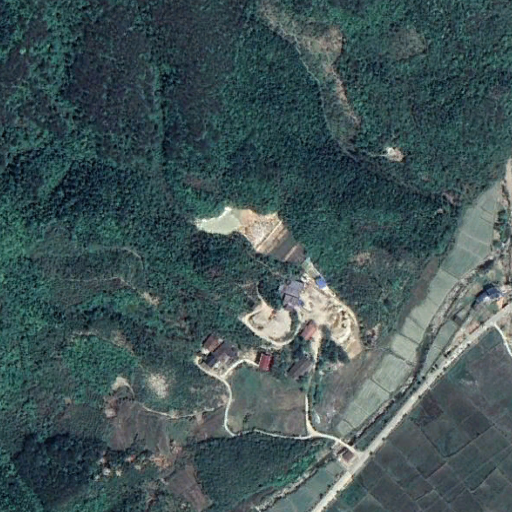tp: (190, 203, 313, 274)
